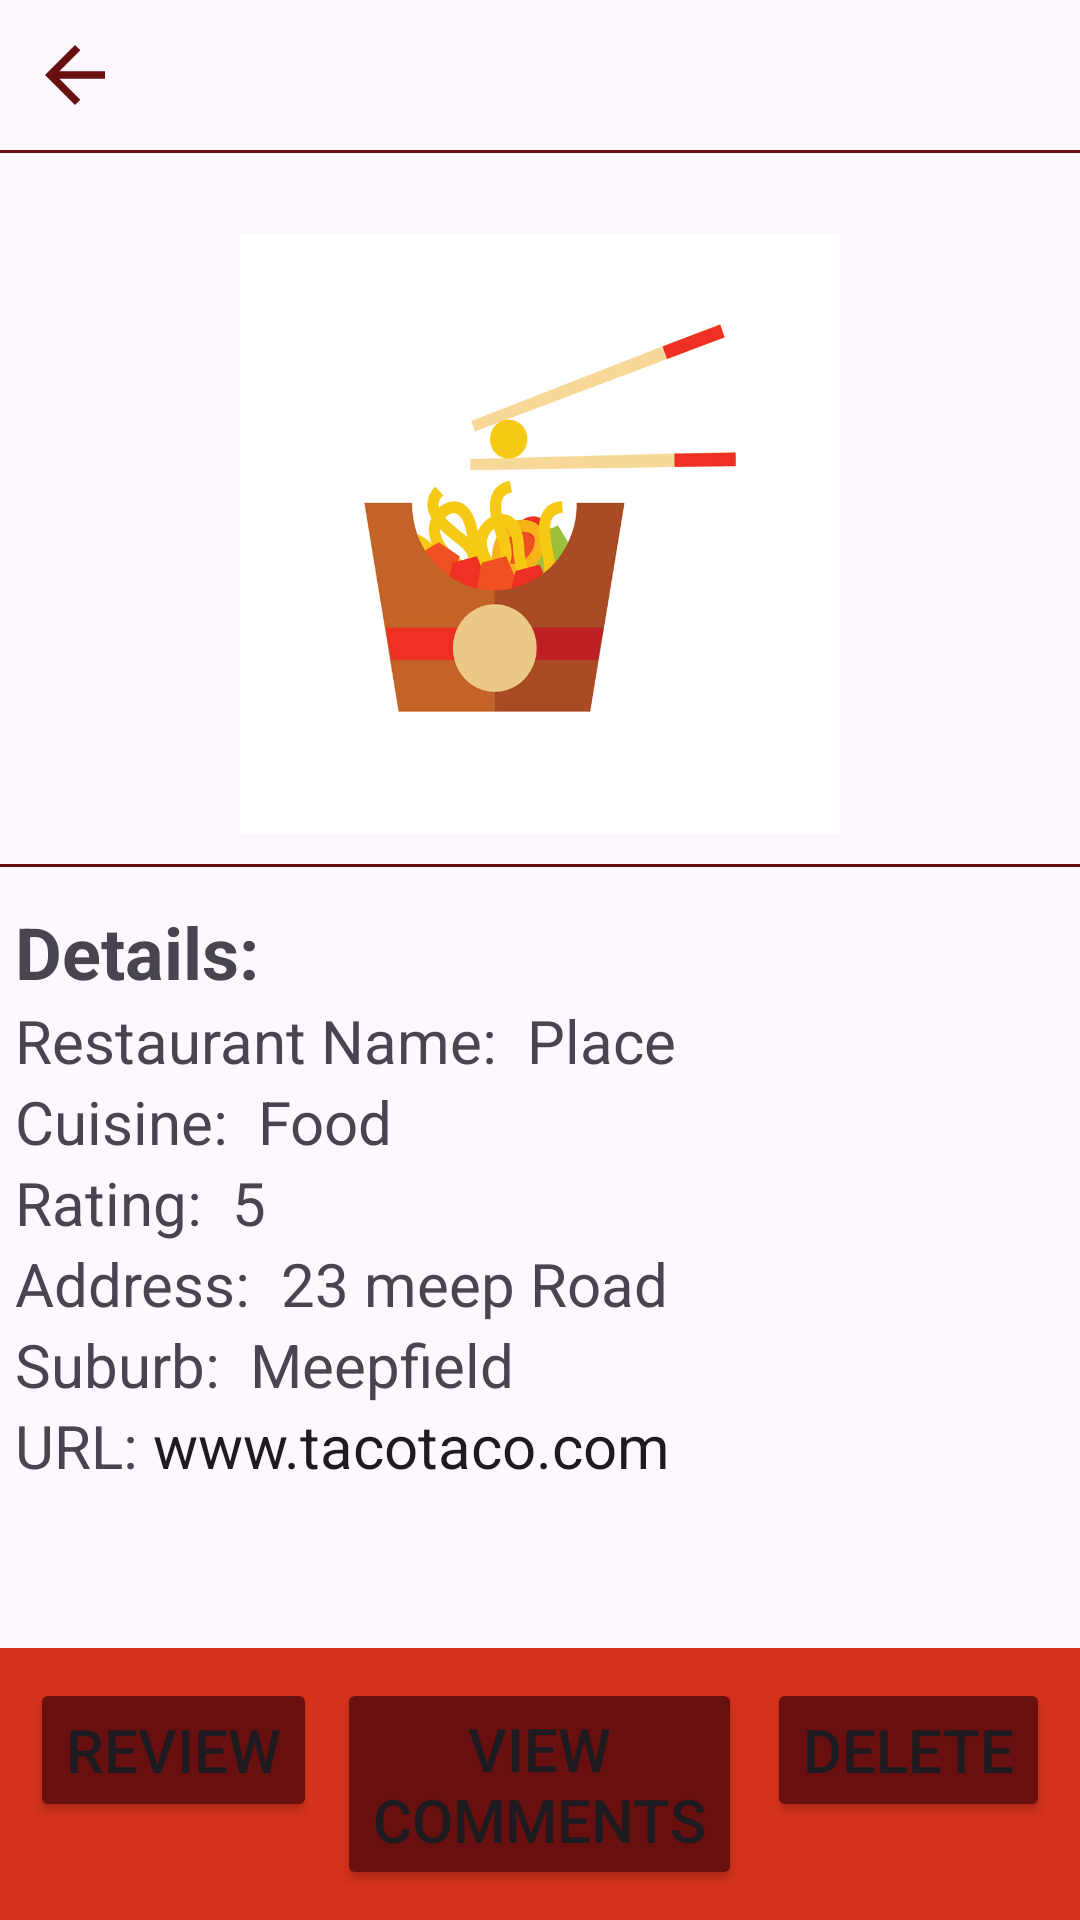

Where to tap for icons on this 1080 × 1920 app screen, as (x,y):
arrow back: (75,75)
